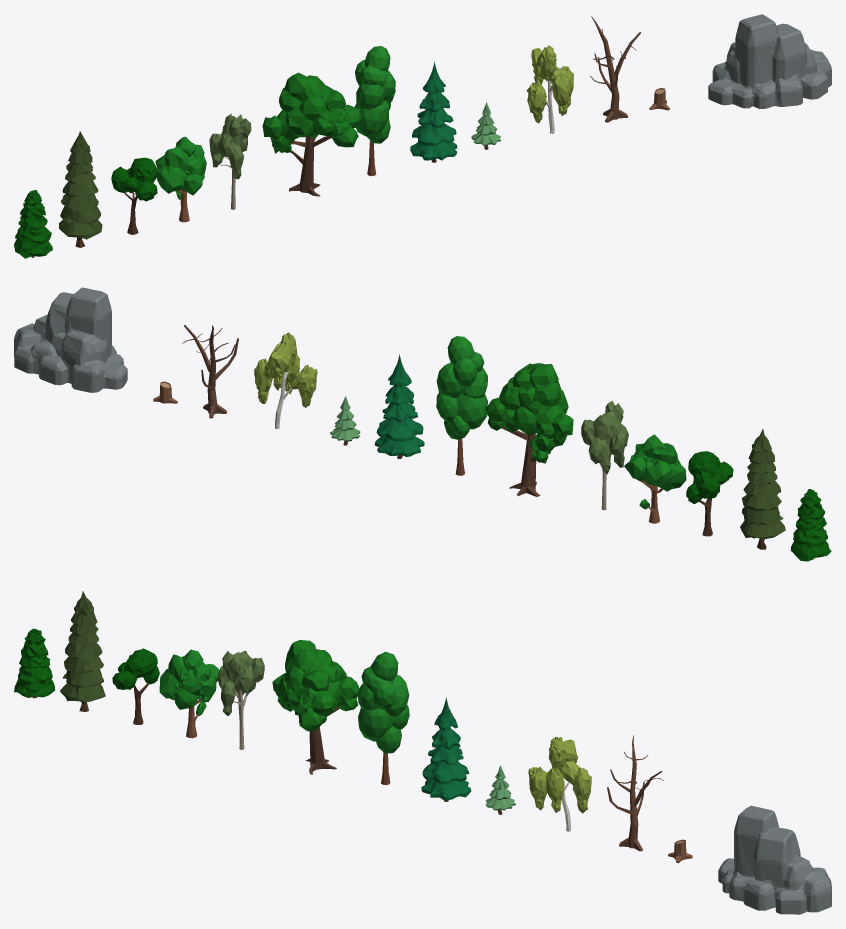
File: Trees+Rock.fbx
The picture shows the model from 3 angles, top to bottom: view 1: azimuth 30°, elevation 25°; view 2: azimuth 150°, elevation 25°; view 3: azimuth 330°, elevation 25°; orthographic projection. The views are drawn at different scales.
Visible parts, largest first — view 1: Rock_1, 6_tree, 7_tree, 2_tree, 8_tree, 4_tree, 10_tree, 5_tree, 1_tree, 3_tree, 11_tree, 9_tree; view 2: Rock_1, 6_tree, 7_tree, 2_tree, 8_tree, 10_tree, 4_tree, 5_tree, 3_tree, 1_tree, 11_tree, 9_tree; view 3: Rock_1, 6_tree, 7_tree, 2_tree, 10_tree, 8_tree, 4_tree, 5_tree, 1_tree, 3_tree, 11_tree, 9_tree.
Part boxes in pixels (box(x1,y1,x2,y2)): Rock_1: box(708, 14, 831, 108); 6_tree: box(262, 72, 361, 196); 7_tree: box(355, 46, 395, 176); 2_tree: box(59, 131, 102, 247); 8_tree: box(410, 61, 457, 162); 4_tree: box(155, 136, 206, 222); 10_tree: box(526, 45, 573, 133); 5_tree: box(209, 113, 251, 209); 1_tree: box(14, 190, 52, 258); 3_tree: box(111, 157, 157, 234); 11_tree: box(590, 16, 640, 122); 9_tree: box(471, 102, 500, 149); Rock_1: box(14, 287, 127, 392); 6_tree: box(485, 363, 573, 496); 7_tree: box(436, 336, 487, 475); 2_tree: box(740, 429, 785, 549); 8_tree: box(374, 354, 424, 458); 10_tree: box(254, 332, 317, 428); 4_tree: box(624, 434, 686, 523); 5_tree: box(581, 400, 628, 510); 3_tree: box(686, 451, 733, 536); 1_tree: box(790, 489, 831, 561); 11_tree: box(182, 325, 238, 418); 9_tree: box(330, 396, 360, 445); Rock_1: box(718, 805, 831, 914); 6_tree: box(272, 640, 359, 774); 7_tree: box(358, 651, 409, 785); 2_tree: box(60, 591, 105, 711); 10_tree: box(528, 737, 591, 831); 8_tree: box(421, 697, 471, 801); 4_tree: box(159, 649, 219, 738); 5_tree: box(217, 650, 264, 749); 1_tree: box(14, 628, 54, 698); 3_tree: box(112, 648, 159, 724); 11_tree: box(607, 735, 663, 851); 9_tree: box(485, 765, 515, 814).
Bounding box in the file's own units: 1798 × 282 × 179.
